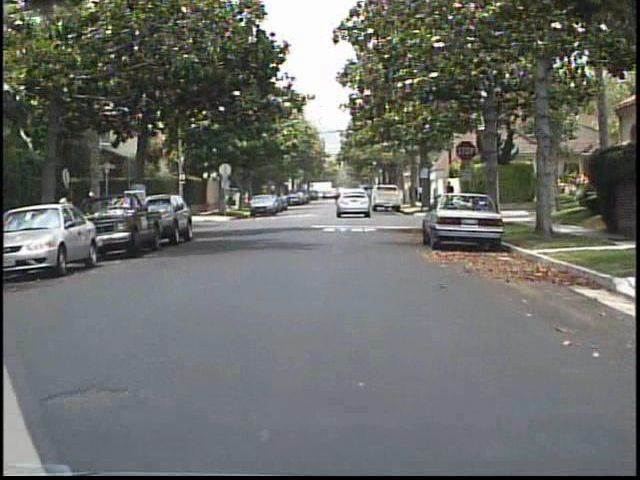person: (56, 186, 79, 252), (441, 177, 458, 213), (416, 183, 423, 203)
